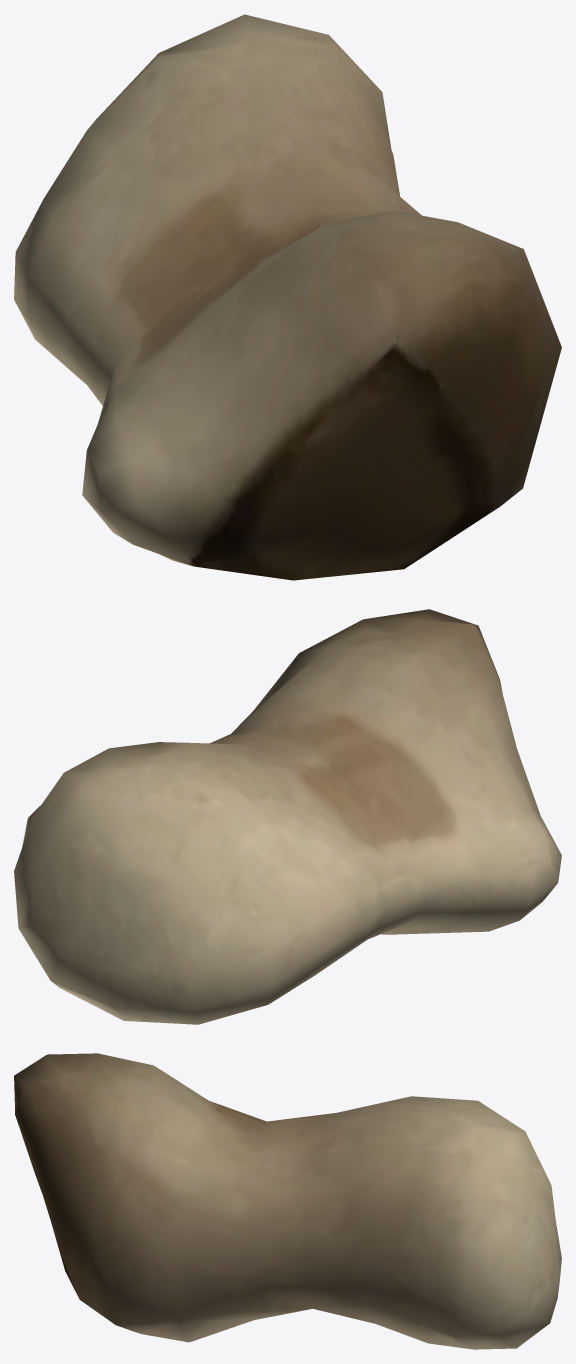
File: Accessory_Carpal.glb
The picture shows the model from 3 angles, top to bottom: view 1: azimuth 30°, elevation 25°; view 2: azimuth 150°, elevation 25°; view 3: azimuth 270°, elevation 25°; orthographic projection. The views are drawn at different scales.
Visible parts, largest first — view 1: Accessory_Carpal_Right1:Group24425; view 2: Accessory_Carpal_Right1:Group24425; view 3: Accessory_Carpal_Right1:Group24425.
Part boxes in pixels (x1,y1,x2,y2): Accessory_Carpal_Right1:Group24425: [14, 14, 561, 580]; Accessory_Carpal_Right1:Group24425: [14, 609, 561, 1024]; Accessory_Carpal_Right1:Group24425: [14, 1053, 561, 1349].
Bounding box in the file's own units: 12.86 × 8.67 × 17.18.
Materials: 1 (1 with a texture image).
